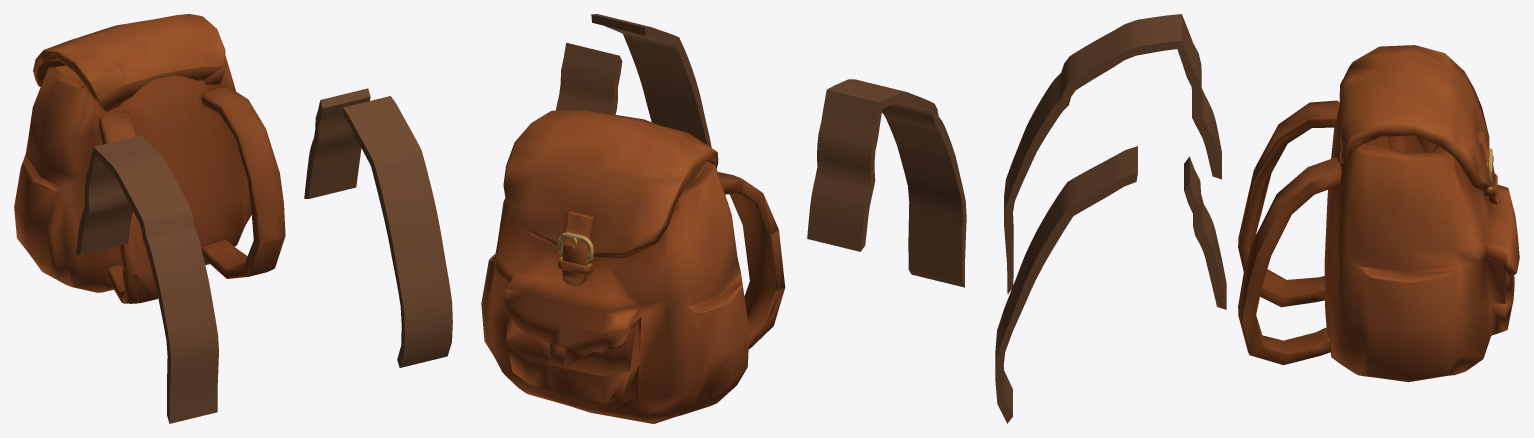
The model's file is mak_v2_backpack.glb.
3 renders of one model, left to right at view 1: azimuth 30°, elevation 25°; view 2: azimuth 150°, elevation 25°; view 3: azimuth 270°, elevation 25°, orthographic. The views are drawn at different scales.
Visible parts, largest first — view 1: mak_backpack; view 2: mak_backpack; view 3: mak_backpack.
Boxes of the visible parts, left/top/right/bottom form: mak_backpack: left=14, top=14, right=452, bottom=423; mak_backpack: left=481, top=14, right=966, bottom=423; mak_backpack: left=995, top=14, right=1519, bottom=423.
Size of the model in its own units: 0.435 by 0.36 by 0.6192.
Materials: 2 (1 with a texture image).
